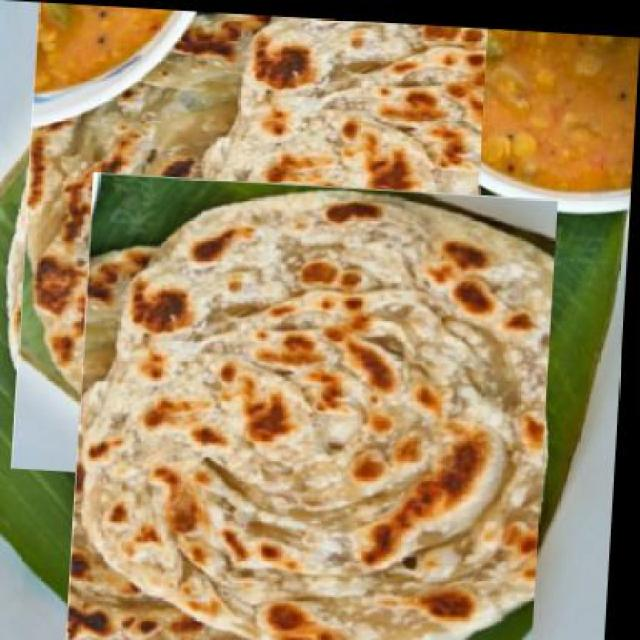chapati: (9, 2, 498, 483), (69, 174, 565, 638)
